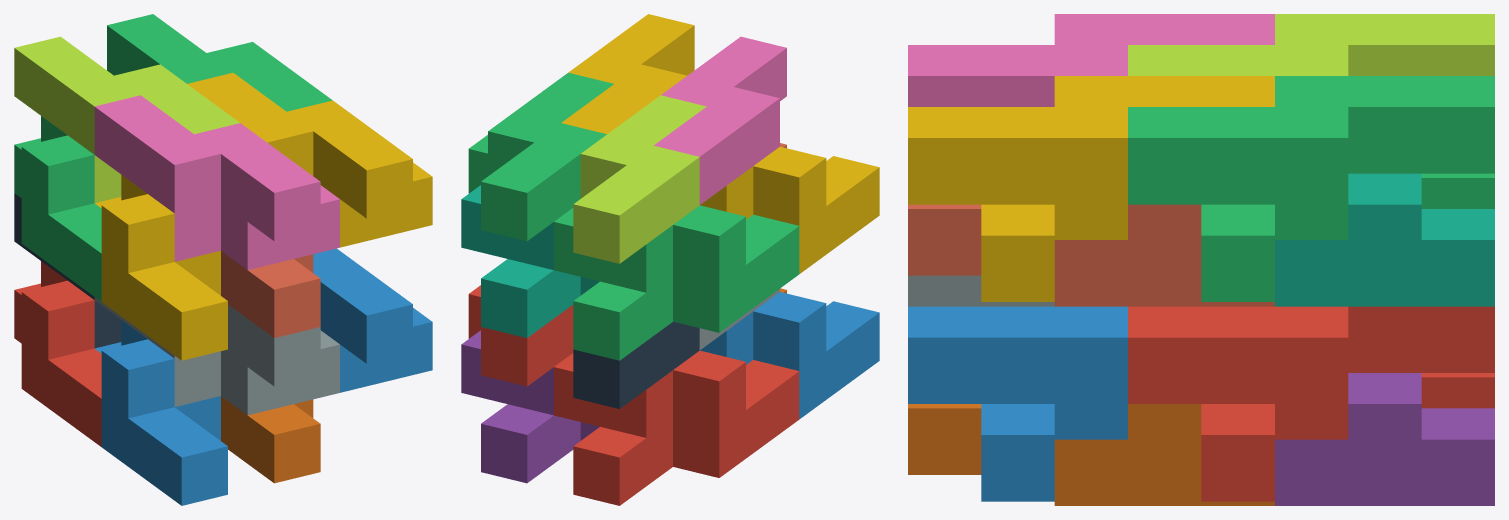
The model's file is tiling.obj.
The picture shows the model from 3 angles, left to right: view 1: azimuth 30°, elevation 25°; view 2: azimuth 150°, elevation 25°; view 3: azimuth 270°, elevation 25°; orthographic projection. The views are drawn at different scales.
Parts seen in each view (by area): view 1: copy_2_domain_4, copy_2_domain_8, copy_1_domain_4, copy_1_domain_2, copy_2_domain_3, copy_2_domain_2, copy_1_domain_3, copy_1_domain_1, copy_2_domain_6, copy_2_domain_7, copy_1_domain_6, copy_1_domain_8 (+1 smaller); view 2: copy_1_domain_1, copy_1_domain_3, copy_2_domain_3, copy_2_domain_7, copy_2_domain_4, copy_1_domain_4, copy_1_domain_2, copy_1_domain_5, copy_1_domain_7, copy_2_domain_8, copy_2_domain_1, copy_2_domain_5 (+1 smaller); view 3: copy_2_domain_7, copy_2_domain_5, copy_2_domain_8, copy_2_domain_6, copy_1_domain_7, copy_1_domain_5, copy_1_domain_8, copy_2_domain_4, copy_2_domain_3, copy_1_domain_6, copy_2_domain_2, copy_1_domain_1 (+1 smaller).
Part boxes in pixels (x1,y1,x2,y2): copy_2_domain_4: (94, 95, 339, 270); copy_2_domain_8: (187, 72, 432, 247); copy_1_domain_4: (95, 175, 227, 360); copy_1_domain_2: (95, 320, 227, 505); copy_2_domain_3: (14, 36, 239, 202); copy_2_domain_2: (94, 297, 339, 415); copy_1_domain_3: (14, 116, 101, 301); copy_1_domain_1: (14, 261, 101, 446); copy_2_domain_6: (313, 248, 432, 392); copy_2_domain_7: (107, 14, 332, 111); copy_1_domain_6: (221, 396, 320, 483); copy_1_domain_8: (221, 251, 320, 337); copy_1_domain_1: (554, 350, 799, 505); copy_1_domain_3: (554, 205, 799, 360); copy_2_domain_3: (573, 95, 706, 263); copy_2_domain_7: (468, 72, 613, 241); copy_2_domain_4: (654, 36, 786, 204); copy_1_domain_4: (700, 146, 879, 273); copy_1_domain_2: (700, 292, 879, 419); copy_1_domain_5: (461, 330, 599, 483); copy_1_domain_7: (461, 185, 599, 337); copy_2_domain_8: (561, 14, 694, 134); copy_2_domain_1: (573, 321, 699, 408); copy_2_domain_5: (468, 285, 573, 386); copy_2_domain_7: (1128, 76, 1494, 301); copy_2_domain_5: (1128, 306, 1494, 501); copy_2_domain_8: (908, 76, 1274, 301); copy_2_domain_6: (908, 306, 1127, 501); copy_1_domain_7: (1275, 173, 1494, 306); copy_1_domain_5: (1275, 373, 1494, 505); copy_1_domain_8: (908, 204, 1274, 306); copy_2_domain_4: (908, 14, 1274, 106); copy_2_domain_3: (1128, 14, 1494, 75); copy_1_domain_6: (908, 404, 1274, 505); copy_2_domain_2: (908, 275, 1054, 306); copy_1_domain_1: (1421, 373, 1494, 408).
Size of the model in its own units: 6 by 6 by 8.
